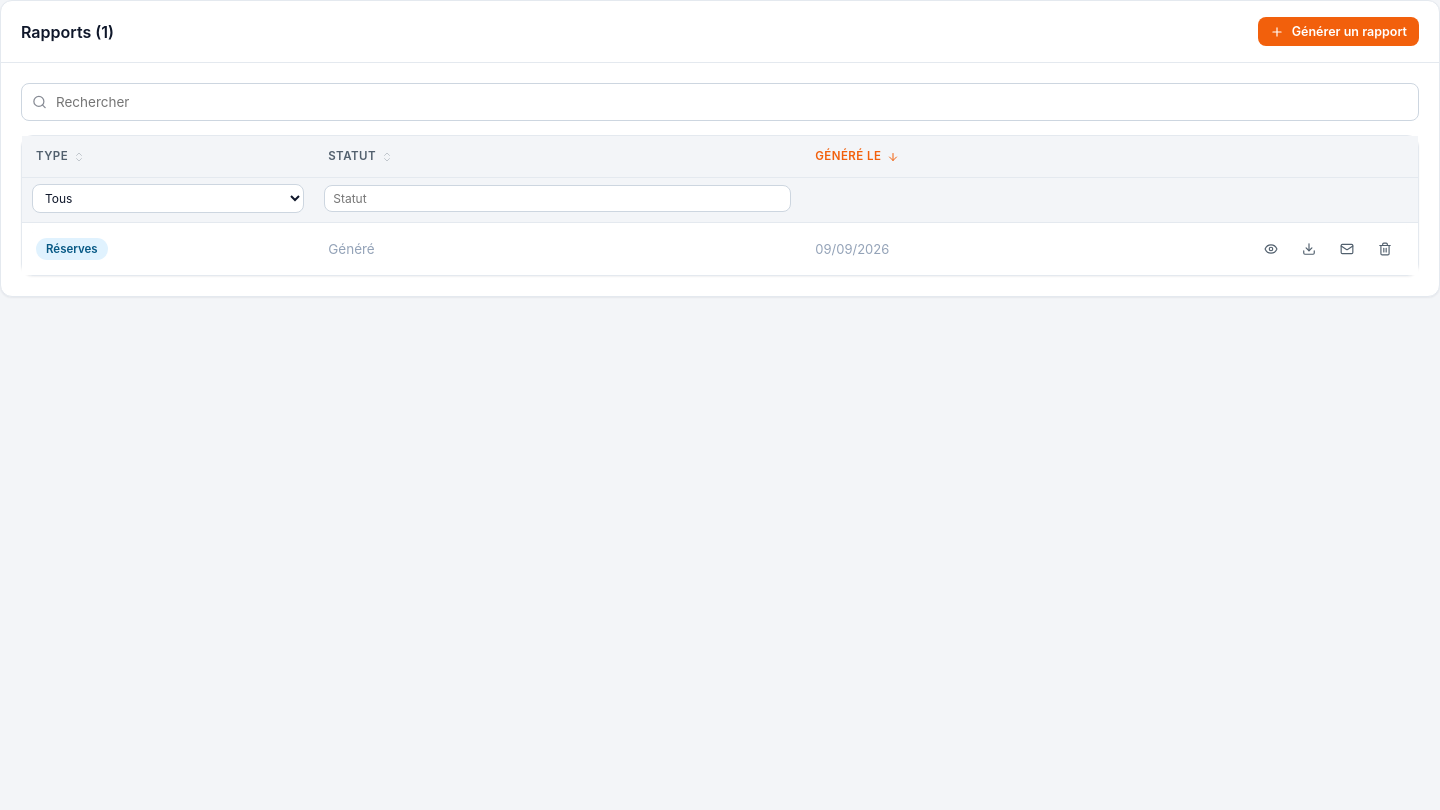
Test: envoi par e-mail › OUVRIR la modale prépare le message mais N’ENVOIE RIEN
Click the button named "Envoyer par e-mail" at (1347, 249), box [1328,235,1366,263]
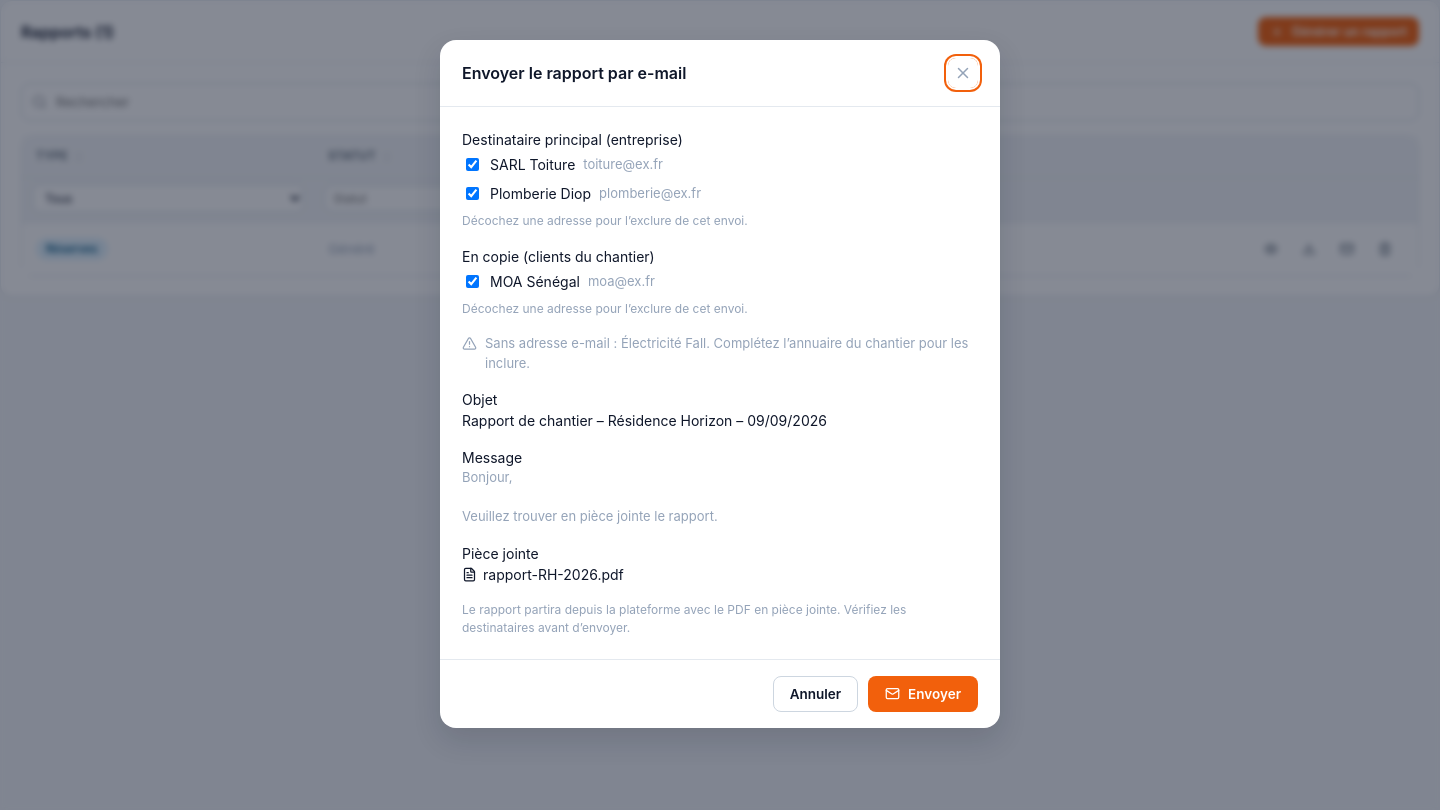
Check: the text "Rapport de chantier – Résidence Horizon – 09/09/2026" is shown, box [462,412,827,429]
